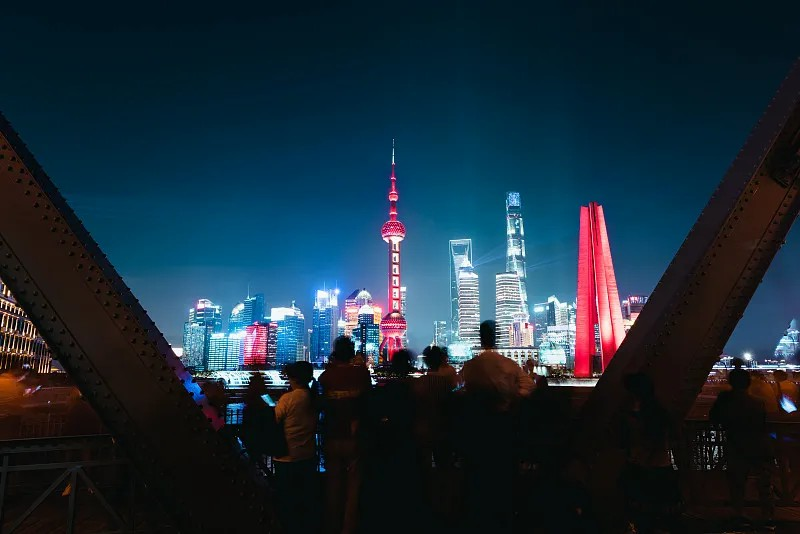Oriental: (379, 139, 406, 358)
